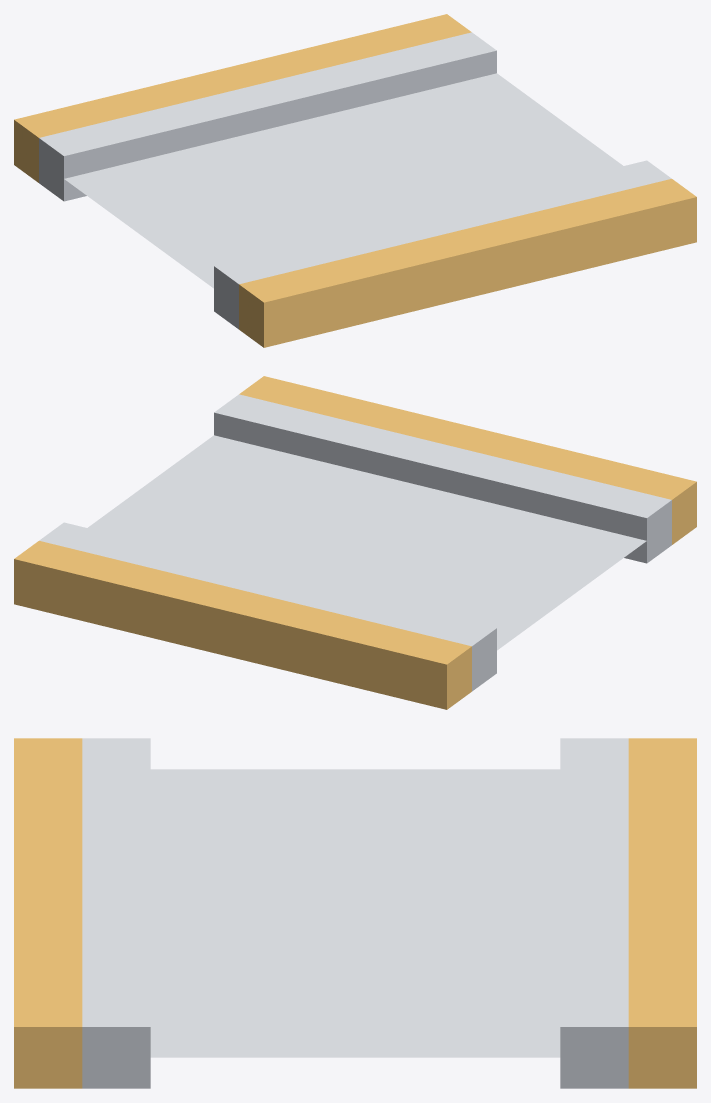
The model's file is platform_straight.gltf.
The picture shows the model from 3 angles, top to bottom: view 1: azimuth 30°, elevation 25°; view 2: azimuth 150°, elevation 25°; view 3: azimuth 270°, elevation 25°; orthographic projection. The views are drawn at different scales.
Parts seen in each view (by area): view 1: platform_straight; view 2: platform_straight; view 3: platform_straight.
Boxes of the visible parts, bbox=[...] form: platform_straight: bbox=[14, 14, 696, 347]; platform_straight: bbox=[14, 376, 696, 709]; platform_straight: bbox=[14, 738, 696, 1088].
Bounding box in the file's own units: 1 × 0.1 × 1.
